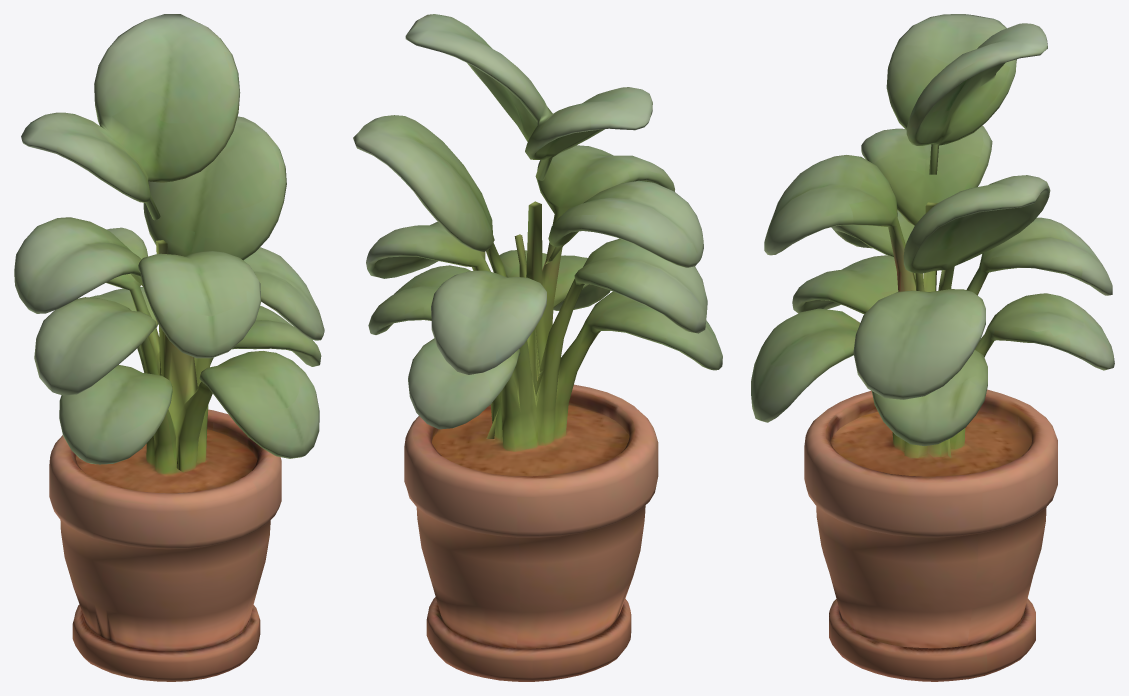
The model's file is OfficePlant2.glb.
3 renders of one model, left to right at view 1: azimuth 30°, elevation 25°; view 2: azimuth 150°, elevation 25°; view 3: azimuth 270°, elevation 25°, orthographic. The views are drawn at different scales.
Parts seen in each view (by area): view 1: OfficePlant2; view 2: OfficePlant2; view 3: OfficePlant2.
Boxes of the visible parts, x1=… form: OfficePlant2: x1=14, y1=14, x2=324, y2=681; OfficePlant2: x1=353, y1=14, x2=722, y2=681; OfficePlant2: x1=751, y1=14, x2=1114, y2=681.
Bounding box in the file's own units: 0.6365 × 1.21 × 0.6385.
Materials: 1 (1 with a texture image).
